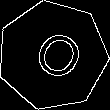O_SW: (21, 23, 84, 88)
